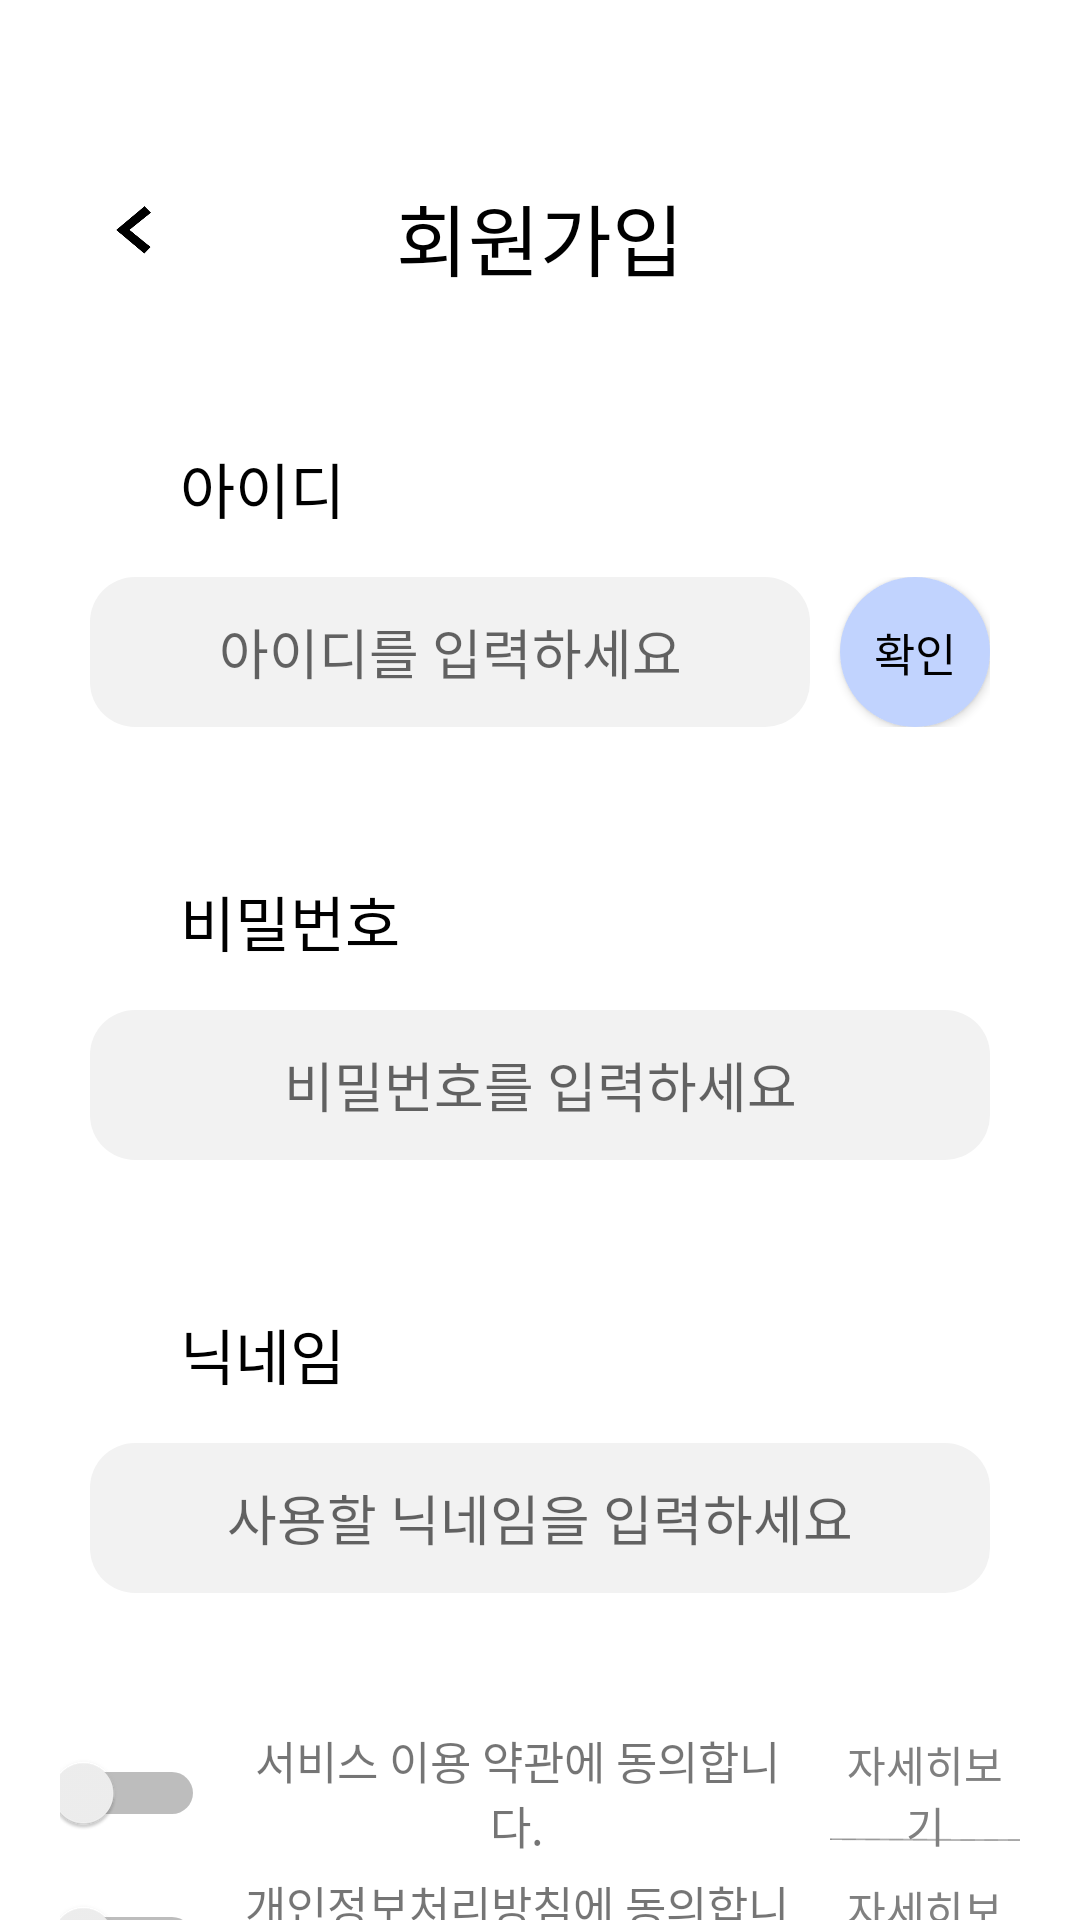

Point at icon controls on the screen. Image size 1080*1920, points as [x,y].
backbut: [133,230]
